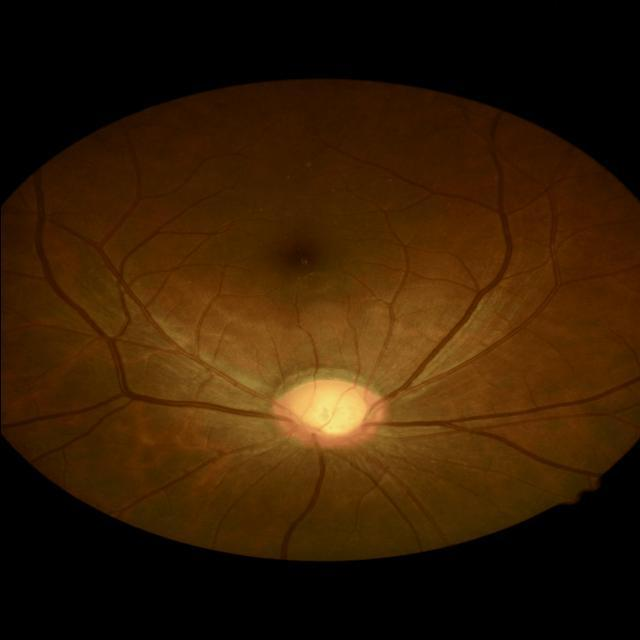cup: (288, 388, 366, 437)
disk: (271, 378, 384, 448)
